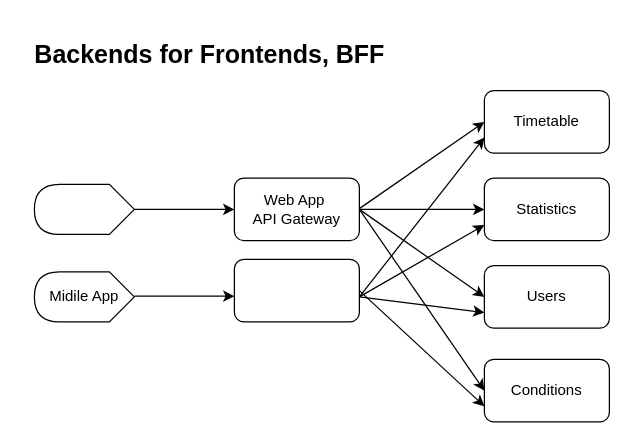
This 631x444 diagram has some shape labels left out. Here are the shapes that lost their labels. From the top down, the box of each, then its label:
(33, 183, 134, 234): Web App
(233, 258, 359, 322): Mobile App API Gateway
